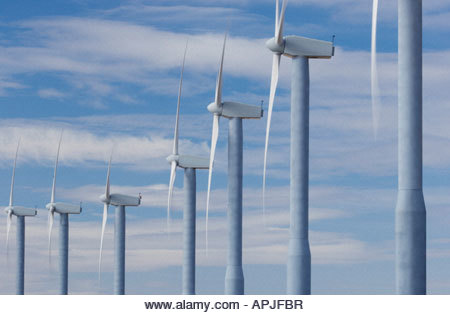working: (207, 29, 261, 244), (157, 32, 204, 244), (43, 125, 90, 285)
